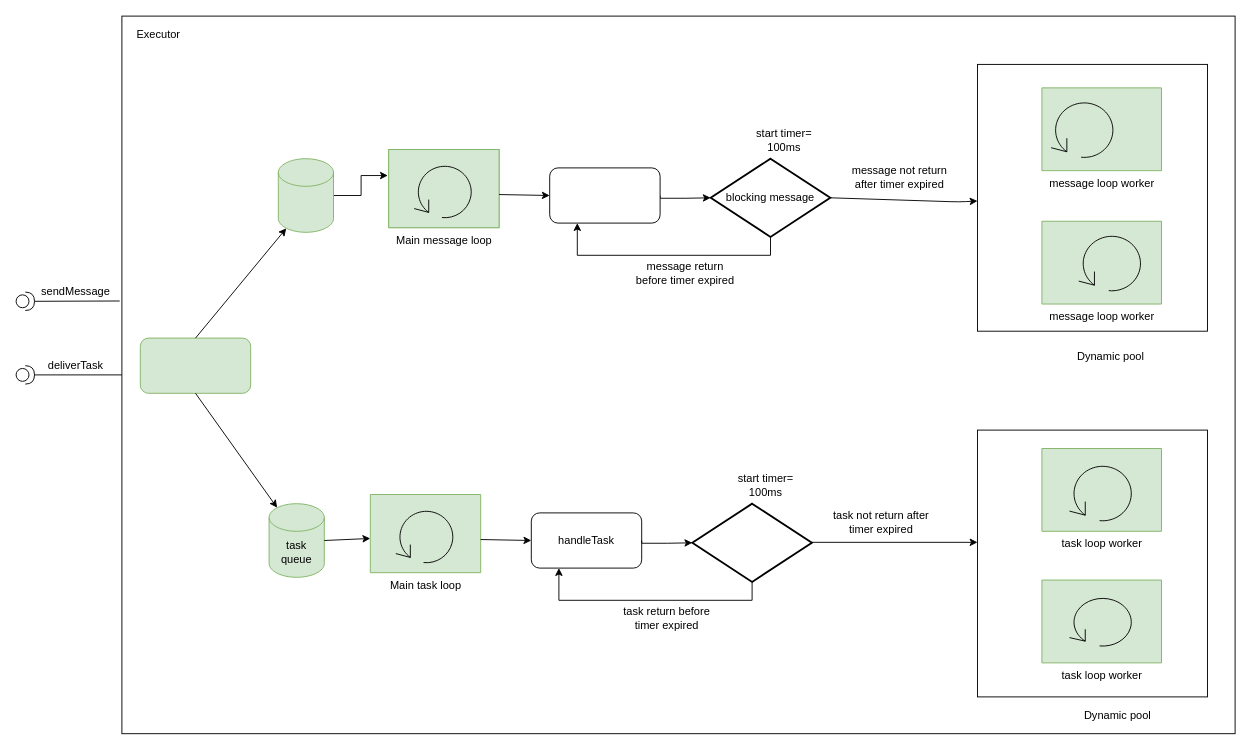
Image size: 1251x750. Some labels were removed from this diagram. The shapes that lost their labels are listed below. From the top down, each one's centre as x and y in pixels, then its label:
At point (305, 195): "message queue".
At point (604, 195): "handleMessage".
At point (195, 365): "executor processor".
At point (751, 542): "blocking task".
